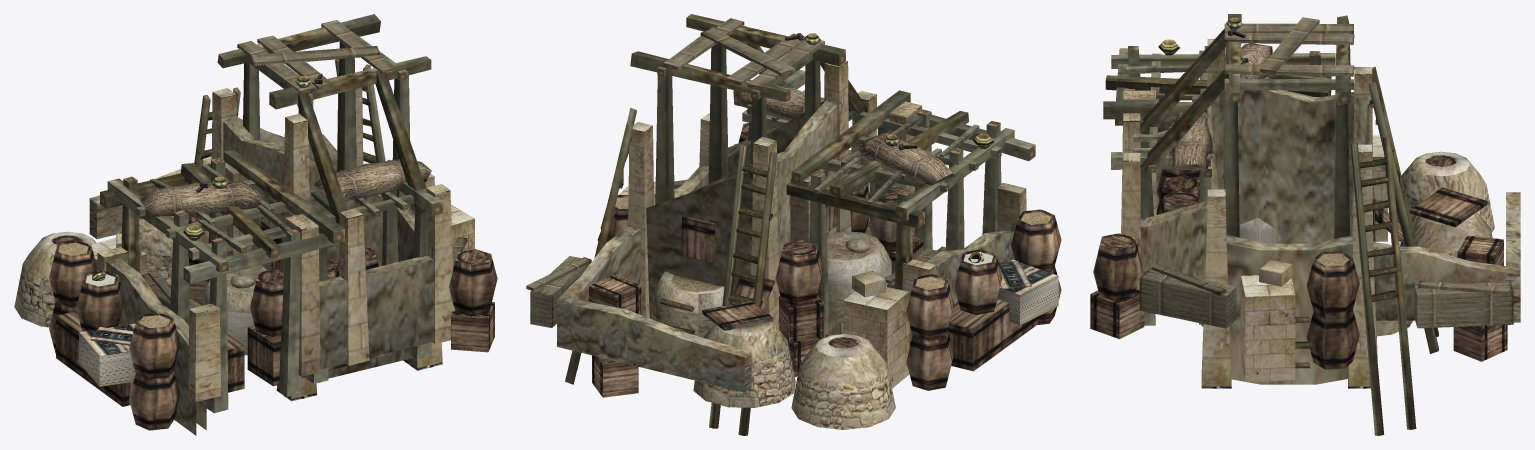
Rendered from scaffold_up_cart_farmstead.glb.
3 views of the same model, side by side, from view 1: azimuth 30°, elevation 25°; view 2: azimuth 150°, elevation 25°; view 3: azimuth 270°, elevation 25° (orthographic). The views are drawn at different scales.
Visible parts, largest first — view 1: scaffold_up_cart_farmstead_part0; view 2: scaffold_up_cart_farmstead_part0; view 3: scaffold_up_cart_farmstead_part0.
Part boxes in pixels (<box>): scaffold_up_cart_farmstead_part0: <box>14,14,497,435</box>; scaffold_up_cart_farmstead_part0: <box>526,14,1061,435</box>; scaffold_up_cart_farmstead_part0: <box>1090,14,1520,435</box>.
Bounding box in the file's own units: 4.06 × 3.16 × 3.7.
1 material, 1 textured.
